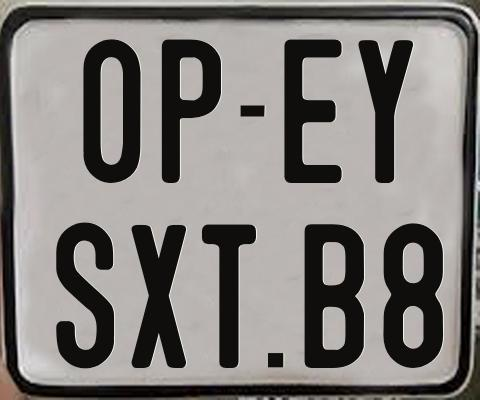0: (82, 38, 142, 185)
8: (383, 223, 444, 373)
B: (303, 221, 369, 368)
E: (284, 38, 343, 185)
P: (162, 36, 226, 185)
S: (55, 221, 113, 374)
T: (201, 223, 256, 367)
X: (131, 223, 192, 372)
Y: (355, 37, 410, 180)
